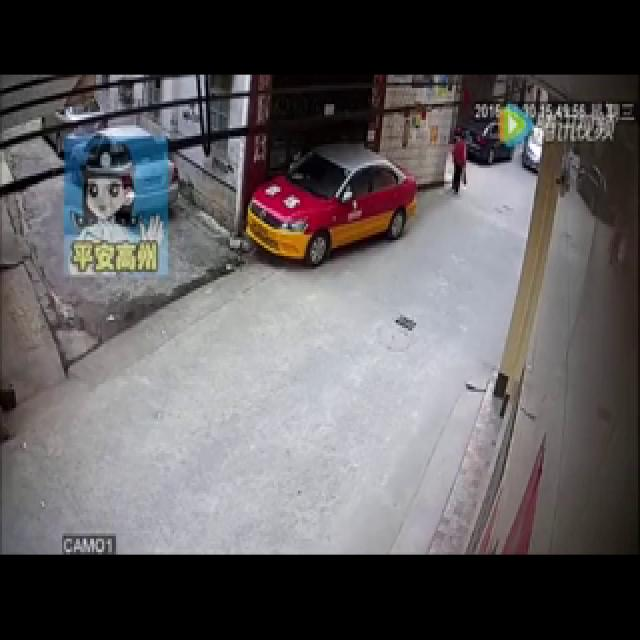arrest: (430, 110, 581, 347)
